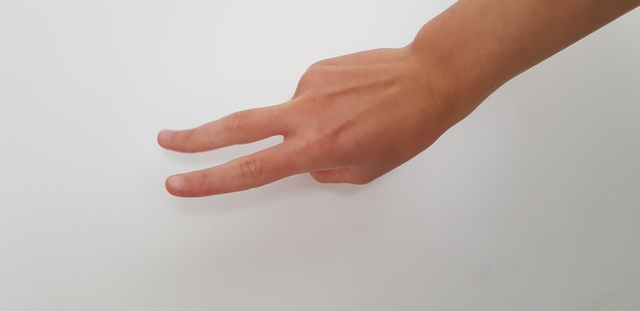Scissors: (148, 40, 466, 199)
